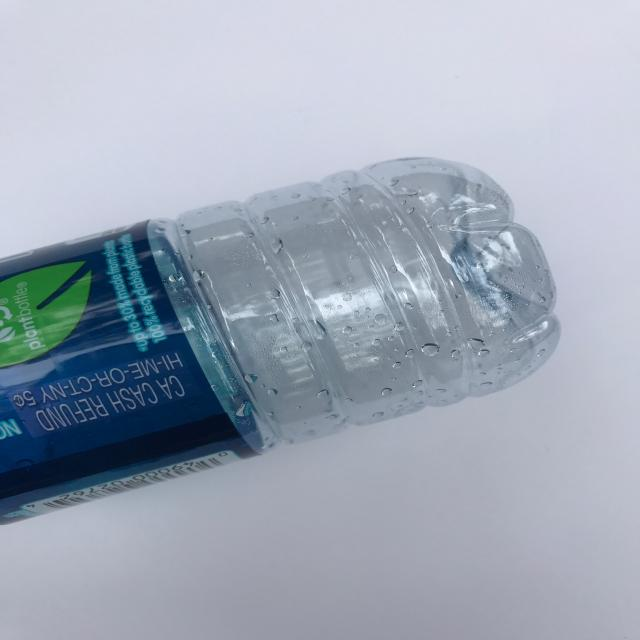plastic: (1, 155, 561, 523)
